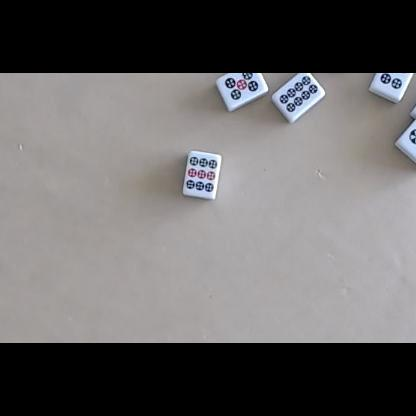2p: (407, 127, 416, 158)
4p: (380, 73, 410, 89)
5p: (225, 73, 258, 99)
8p: (281, 74, 318, 112)
9p: (186, 156, 218, 192)
